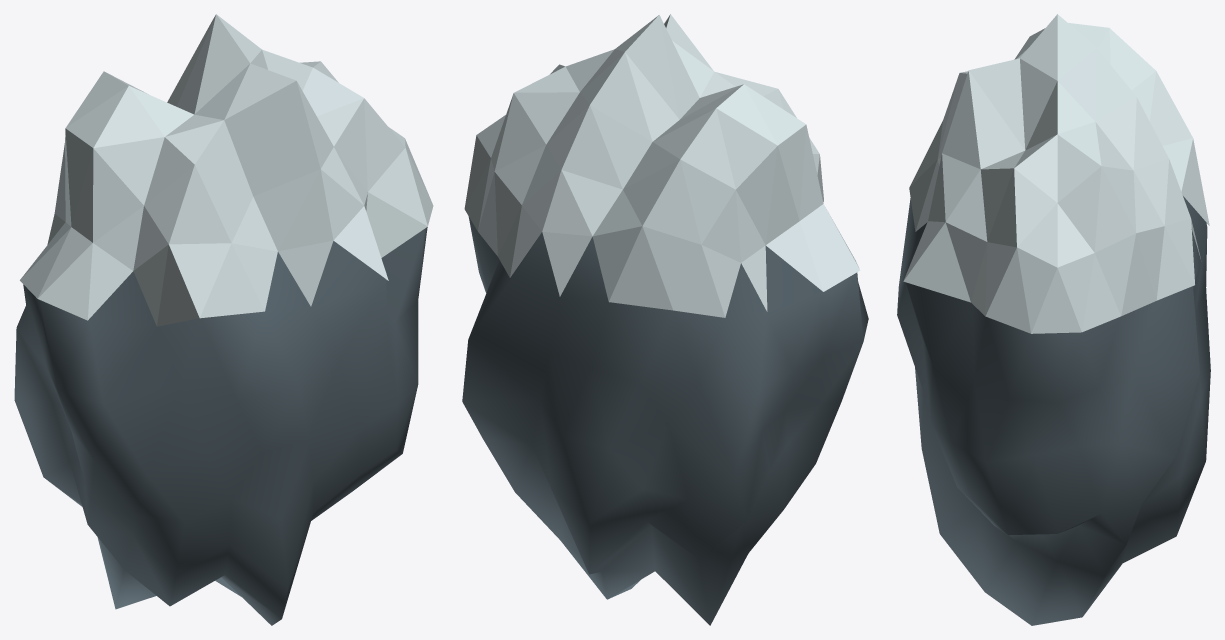
File: cliff.glb
The picture shows the model from 3 angles, left to right: view 1: azimuth 30°, elevation 25°; view 2: azimuth 150°, elevation 25°; view 3: azimuth 270°, elevation 25°; orthographic projection. The views are drawn at different scales.
Parts seen in each view (by area): view 1: Cliff_stone, Snow_cap; view 2: Cliff_stone, Snow_cap; view 3: Cliff_stone, Snow_cap.
Boxes of the visible parts, <box> form: Cliff_stone: <box>14,227,427,625</box>; Snow_cap: <box>20,14,433,326</box>; Cliff_stone: <box>462,216,868,625</box>; Snow_cap: <box>464,14,860,317</box>; Cliff_stone: <box>897,196,1210,625</box>; Snow_cap: <box>903,14,1209,333</box>.
Bounding box in the file's own units: 3.12 × 4.6 × 2.21.
